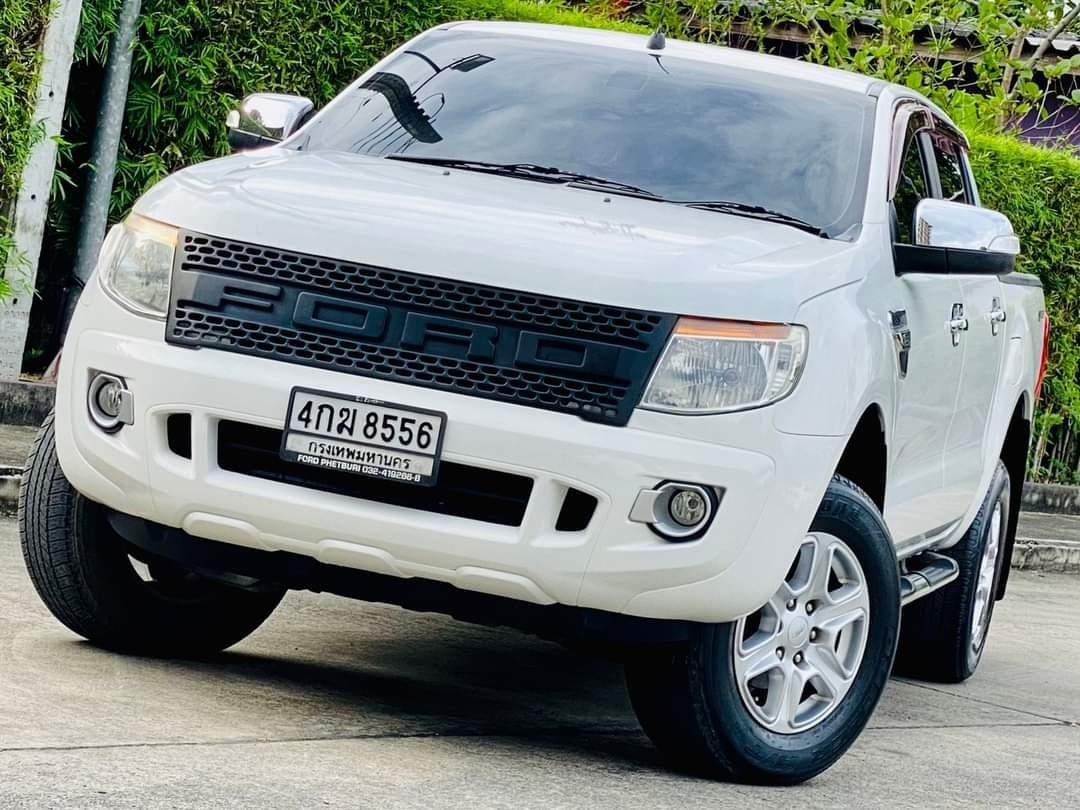license-plate: (279, 383, 447, 487)
